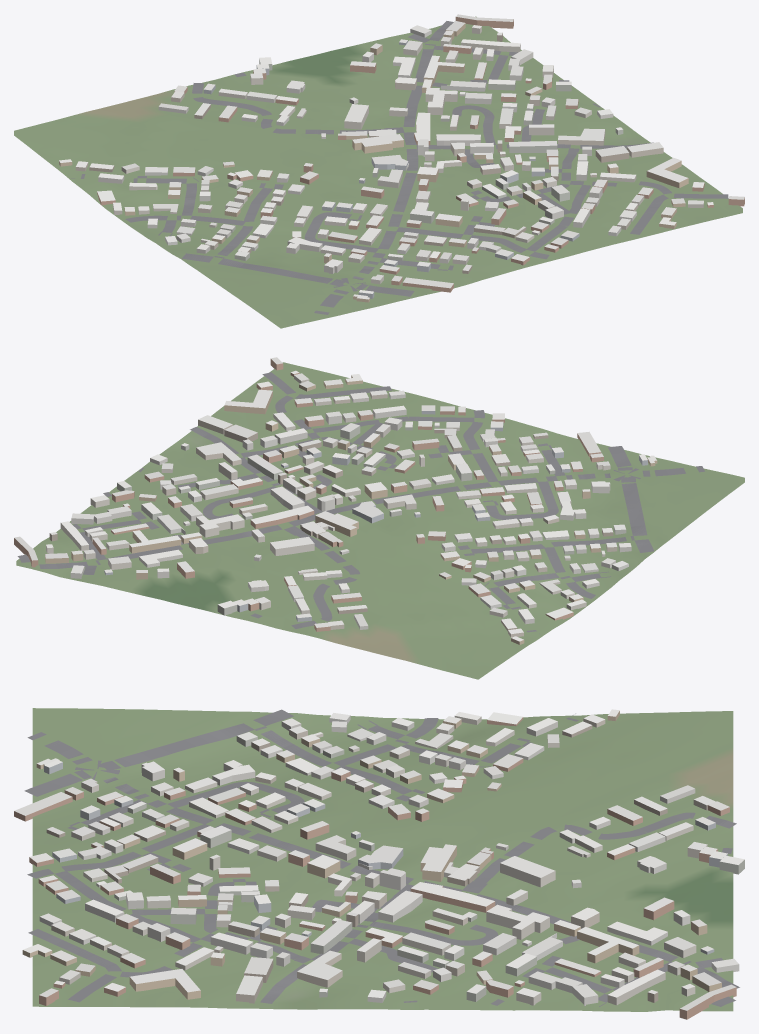
The picture shows the model from 3 angles, top to bottom: view 1: azimuth 30°, elevation 25°; view 2: azimuth 150°, elevation 25°; view 3: azimuth 270°, elevation 25°; orthographic projection. The views are drawn at different scales.
Parts seen in each view (by area): view 1: prim0, prim1, prim2; view 2: prim0, prim1, prim2; view 3: prim0, prim1, prim2.
Boxes of the visible parts, bbox=[...] form: prim0: bbox=[14, 16, 742, 328]; prim1: bbox=[59, 14, 744, 302]; prim2: bbox=[71, 21, 728, 314]; prim0: bbox=[16, 362, 744, 679]; prim1: bbox=[14, 357, 657, 644]; prim2: bbox=[17, 372, 704, 634]; prim0: bbox=[32, 708, 733, 1011]; prim1: bbox=[14, 709, 744, 1019]; prim2: bbox=[24, 709, 739, 1006].
Size of the model in its own units: 539 by 26.44 by 534.
